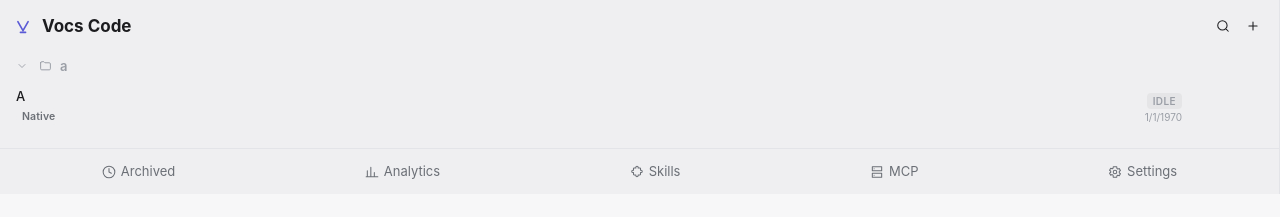
Scenario: sidebar session actions › starts renaming from the title without selecting the row
Click the text titled "Click to rename" at (21, 97), box [16,87,25,106]
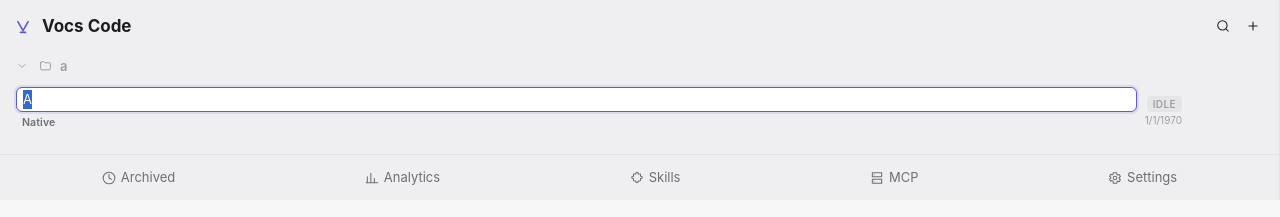
Check: the field with class "session-rename" is shown, box [16,87,1137,112]
